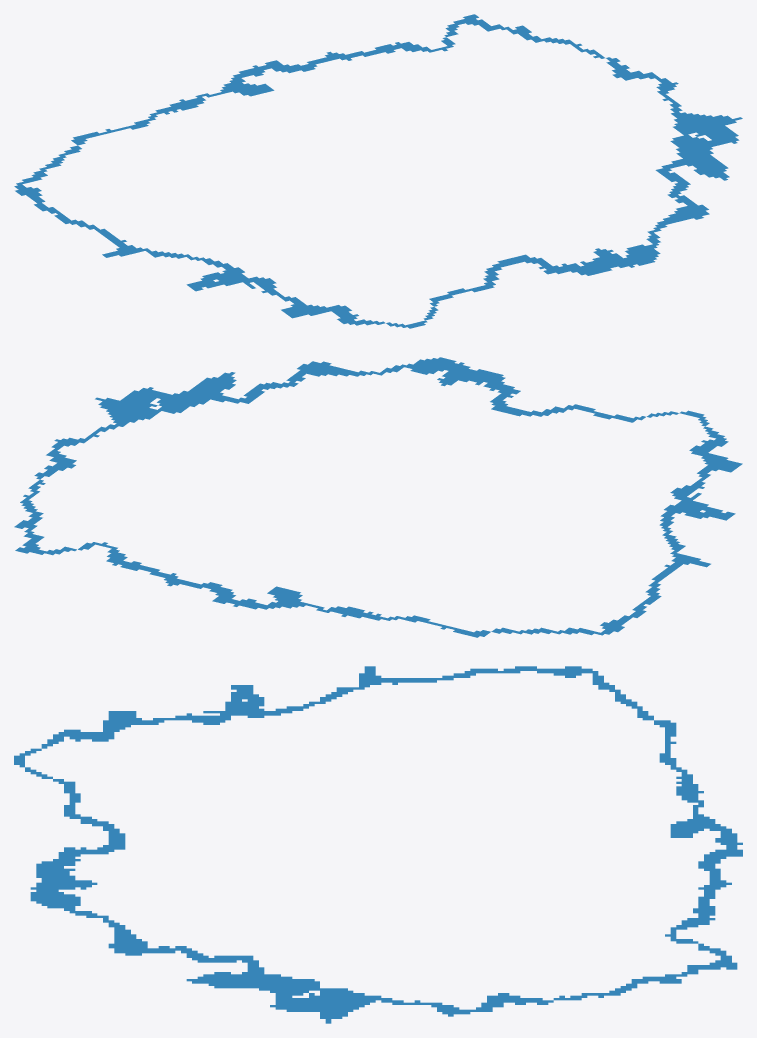
Rendered from Isl-start1-PlaceForWaterObjects.fbx.
3 views of the same model, one above another, from view 1: azimuth 30°, elevation 25°; view 2: azimuth 150°, elevation 25°; view 3: azimuth 270°, elevation 25° (orthographic). The views are drawn at different scales.
Visible parts, largest first — view 1: Isl-start1-PlaceForWaterObjects; view 2: Isl-start1-PlaceForWaterObjects; view 3: Isl-start1-PlaceForWaterObjects.
Boxes of the visible parts, left/top/right/bottom form: Isl-start1-PlaceForWaterObjects: left=14, top=14, right=742, bottom=328; Isl-start1-PlaceForWaterObjects: left=14, top=357, right=742, bottom=637; Isl-start1-PlaceForWaterObjects: left=14, top=666, right=742, bottom=1023.
Bounding box in the file's own units: 152 × 0 × 131.
